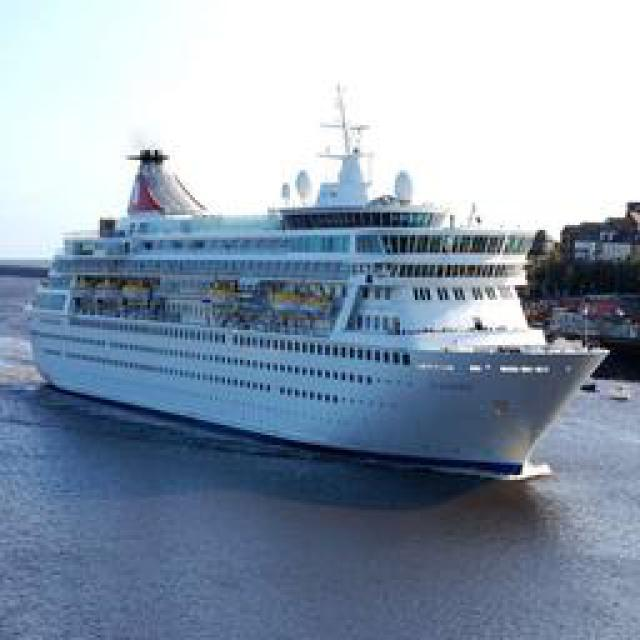Ship: (34, 125, 629, 493)
